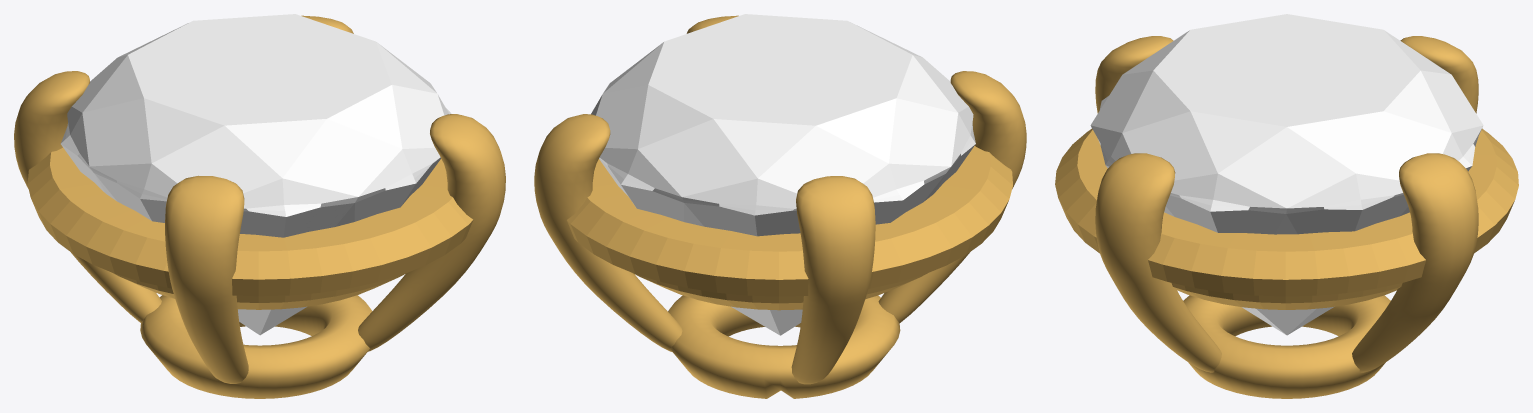
The model's file is Red Diamond Ring.gltf.
The picture shows the model from 3 angles, left to right: view 1: azimuth 30°, elevation 25°; view 2: azimuth 150°, elevation 25°; view 3: azimuth 270°, elevation 25°; orthographic projection.
Visible parts, largest first — view 1: Cube, Plane, Plane.004, Plane.001, Plane.005, Plane.002; view 2: Cube, Plane, Plane.002, Plane.001, Plane.007, Plane.004; view 3: Cube, Plane, Plane.007, Plane.005, Plane.001, Plane.002, Plane.004.
Part boxes in pixels (bbox=[...]): Cube: bbox=[60, 14, 451, 335]; Plane: bbox=[27, 147, 473, 309]; Plane.004: bbox=[165, 175, 248, 383]; Plane.001: bbox=[140, 295, 372, 398]; Plane.005: bbox=[358, 114, 505, 351]; Plane.002: bbox=[14, 71, 161, 322]; Cube: bbox=[591, 14, 975, 335]; Plane: bbox=[567, 146, 1012, 310]; Plane.002: bbox=[791, 176, 875, 384]; Plane.001: bbox=[668, 295, 900, 398]; Plane.007: bbox=[534, 114, 682, 352]; Plane.004: bbox=[878, 71, 1026, 323]; Cube: bbox=[1090, 14, 1483, 335]; Plane: bbox=[1055, 128, 1518, 309]; Plane.007: bbox=[1352, 153, 1478, 372]; Plane.005: bbox=[1095, 153, 1221, 372]; Plane.001: bbox=[1183, 295, 1390, 398]; Plane.002: bbox=[1400, 36, 1478, 113]; Plane.004: bbox=[1095, 36, 1173, 113].
Bounding box in the file's own units: 7.09 × 4.85 × 7.09.
